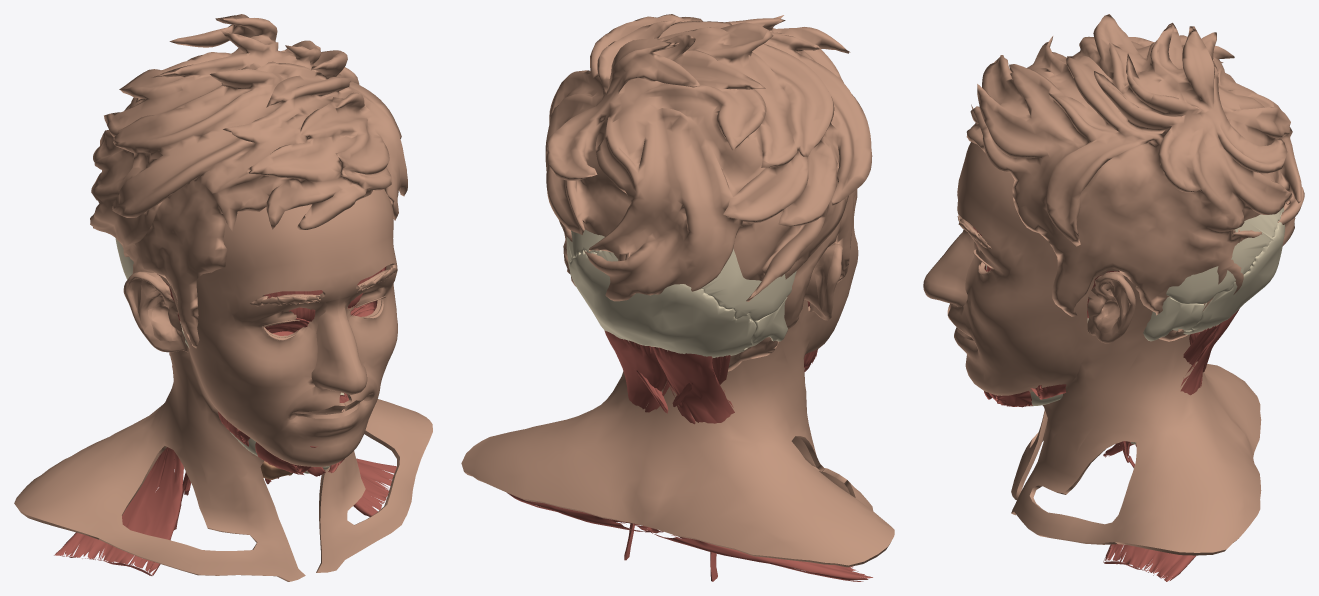
The model's file is head.glb.
The picture shows the model from 3 angles, left to right: view 1: azimuth 30°, elevation 25°; view 2: azimuth 150°, elevation 25°; view 3: azimuth 270°, elevation 25°; orthographic projection. The views are drawn at different scales.
Parts seen in each view (by area): view 1: real-skin-hairs-of-head, real-skin-sternocleidomastoid-region-r, real-skin-frontal-region-r, real-skin-posterior-region-of-neck-r, real-skin-lateral-region-of-neck-r, real-descending-part-of-right-trapezius, real-skin-sternocleidomastoid-region-l, real-skin-buccal-region-r, real-skin-frontal-region-l, real-skin-nasal-region-r, real-skin-orbital-region-r, real-skin-lateral-region-of-neck-l (+16 smaller); view 2: real-skin-hairs-of-head, real-skin-posterior-region-of-neck-r, real-skin-posterior-region-of-neck-l, occipital-bone, real-descending-part-of-right-trapezius, real-skin-lateral-region-of-neck-r, real-descending-part-of-left-trapezius, parietal-bone-right, real-skin-sternocleidomastoid-region-r, real-skin-parotideomasseteric-region-r, temporal-bone-right, real-skin-helix-r (+1 smaller); view 3: real-skin-hairs-of-head, real-skin-posterior-region-of-neck-l, real-skin-lateral-region-of-neck-l, real-skin-sternocleidomastoid-region-l, real-skin-frontal-region-l, real-skin-buccal-region-l, real-skin-parotideomasseteric-region-l, parietal-bone-left, occipital-bone, real-descending-part-of-left-trapezius, real-skin-posterior-region-of-neck-r, real-skin-nasal-region-l (+10 smaller).
Part boxes in pixels (box(x1,y1,x2,y2)): real-skin-hairs-of-head: box(90, 14, 407, 348); real-skin-sternocleidomastoid-region-r: box(169, 350, 305, 581); real-skin-frontal-region-r: box(214, 205, 340, 330); real-skin-posterior-region-of-neck-r: box(14, 389, 171, 539); real-skin-lateral-region-of-neck-r: box(99, 365, 211, 575); real-descending-part-of-right-trapezius: box(54, 353, 184, 575); real-skin-sternocleidomastoid-region-l: box(316, 452, 401, 572); real-skin-buccal-region-r: box(216, 357, 311, 462); real-skin-frontal-region-l: box(333, 189, 397, 298); real-skin-nasal-region-r: box(311, 299, 358, 394); real-skin-orbital-region-r: box(243, 294, 326, 355); real-skin-lateral-region-of-neck-l: box(352, 421, 420, 524); real-skin-hairs-of-head: box(545, 14, 872, 371); real-skin-posterior-region-of-neck-r: box(642, 370, 894, 567); real-skin-posterior-region-of-neck-l: box(461, 375, 669, 525); occipital-bone: box(569, 250, 756, 358); real-descending-part-of-right-trapezius: box(648, 346, 872, 581); real-skin-lateral-region-of-neck-r: box(732, 341, 873, 510); real-descending-part-of-left-trapezius: box(507, 330, 670, 532); parietal-bone-right: box(700, 249, 796, 320); real-skin-sternocleidomastoid-region-r: box(781, 316, 850, 494); real-skin-parotideomasseteric-region-r: box(806, 266, 851, 347); temporal-bone-right: box(746, 297, 787, 348); real-skin-helix-r: box(821, 243, 841, 316); real-skin-hairs-of-head: box(966, 14, 1304, 341); real-skin-posterior-region-of-neck-l: box(1115, 334, 1261, 555); real-skin-lateral-region-of-neck-l: box(1037, 334, 1188, 544); real-skin-sternocleidomastoid-region-l: box(1011, 323, 1147, 534); real-skin-frontal-region-l: box(957, 143, 1033, 285); real-skin-buccal-region-l: box(967, 300, 1041, 392); real-skin-parotideomasseteric-region-l: box(1030, 304, 1097, 383); parietal-bone-left: box(1166, 211, 1280, 303); occipital-bone: box(1183, 207, 1285, 334); real-descending-part-of-left-trapezius: box(1103, 308, 1239, 581); real-skin-posterior-region-of-neck-r: box(1204, 364, 1261, 457); real-skin-nasal-region-l: box(923, 229, 974, 306).
Bounding box in the file's own units: 0.2915 × 0.3527 × 0.2483.
